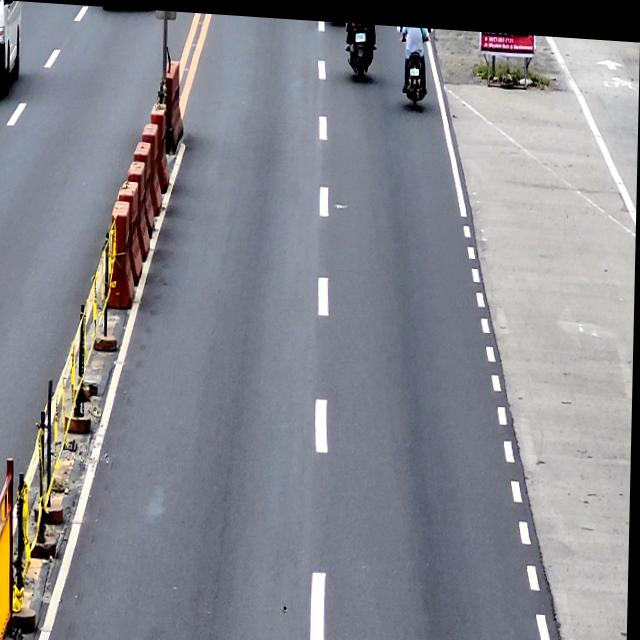License-Plate: (356, 28, 366, 38), (410, 64, 420, 70)
Motorcycle: (397, 21, 430, 107), (345, 18, 376, 76)
